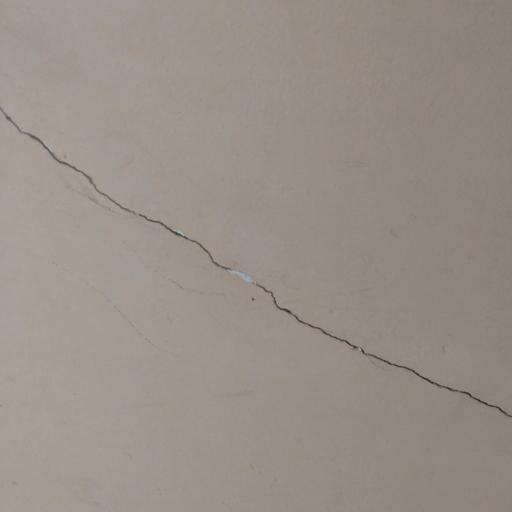major_crack: (0, 84, 512, 434)
